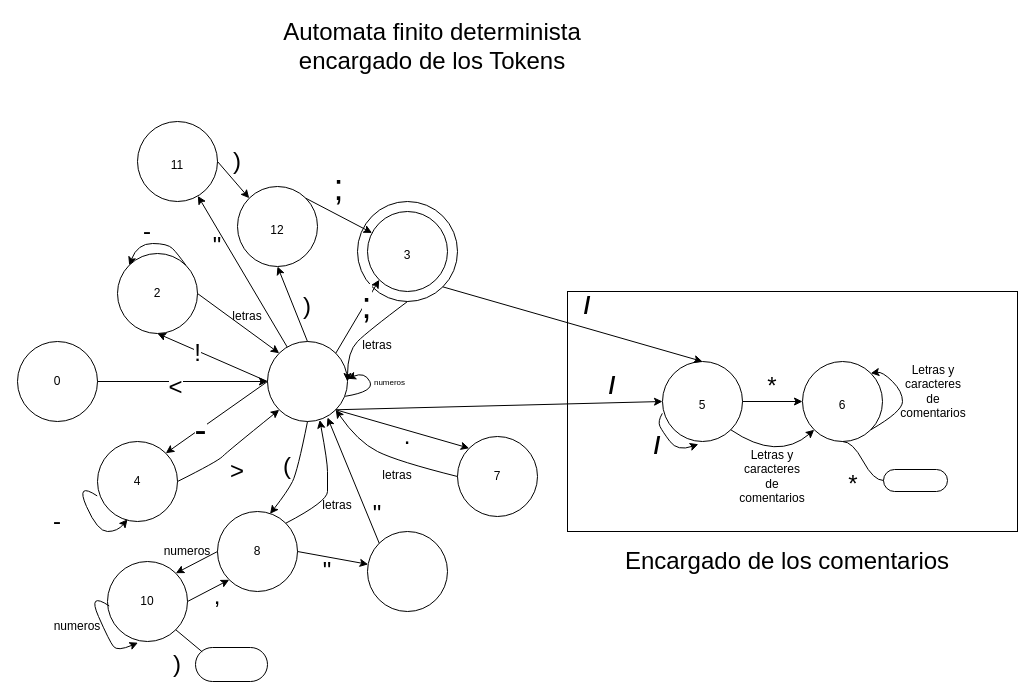
Some shapes in this 1035 by 699 pixel diagram are drawn without their labels. Here are the shapes that lost their labels. From the top down, the centre of each, then its label:
At point 307,381: "1 bucle letras".
At point 915,480: "a estado 1".
At point 407,571: "9 bucle letras y numeros".
At point 231,664: "a stado 12".
